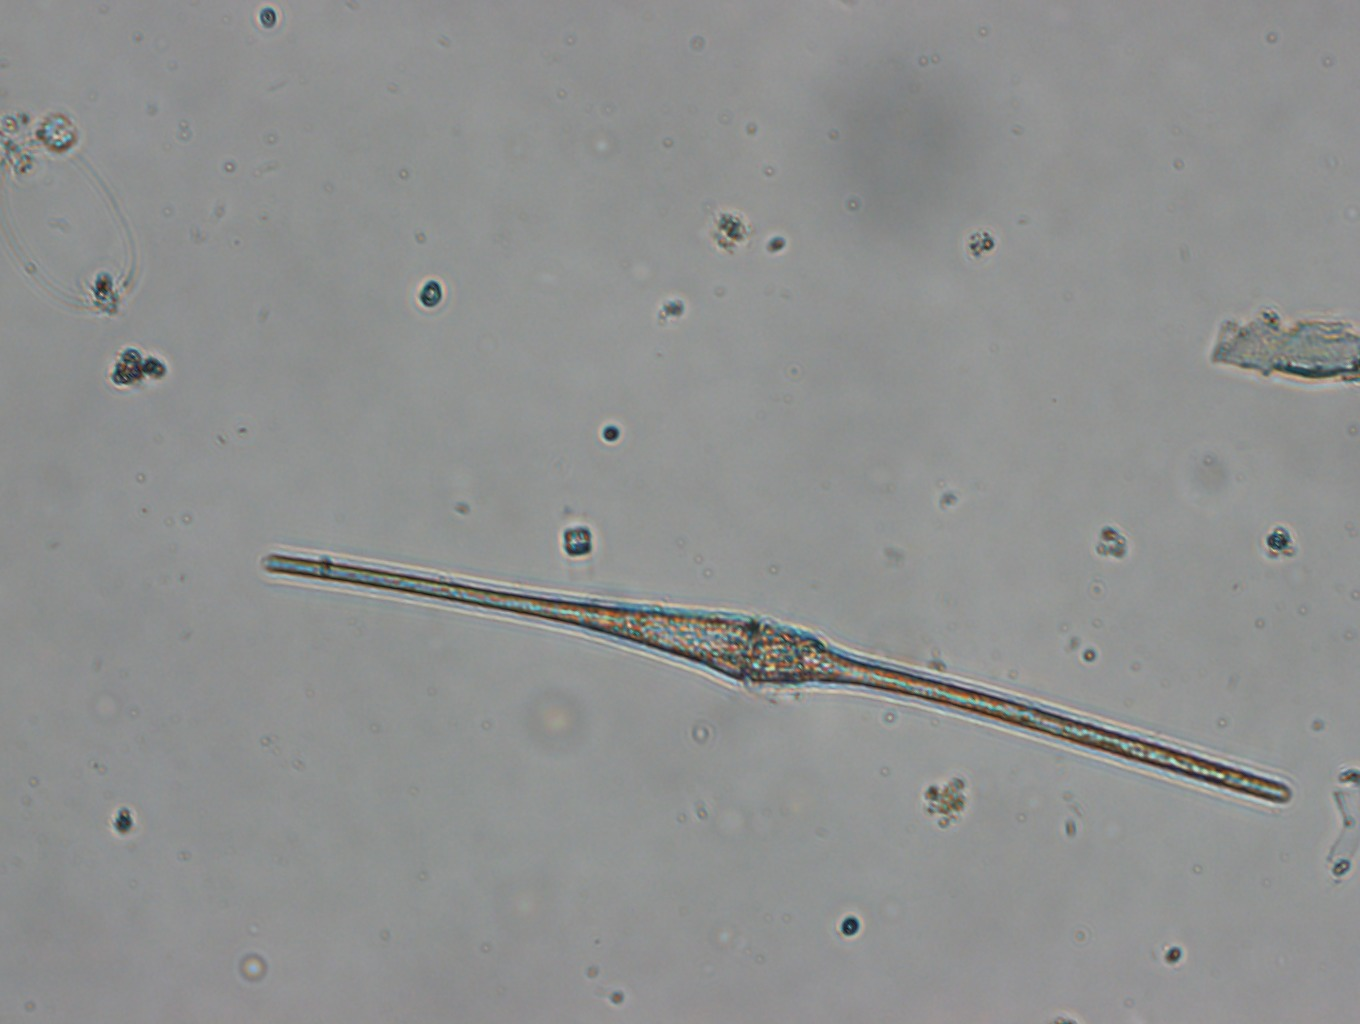ceratium fusus: (258, 545, 1295, 808)
